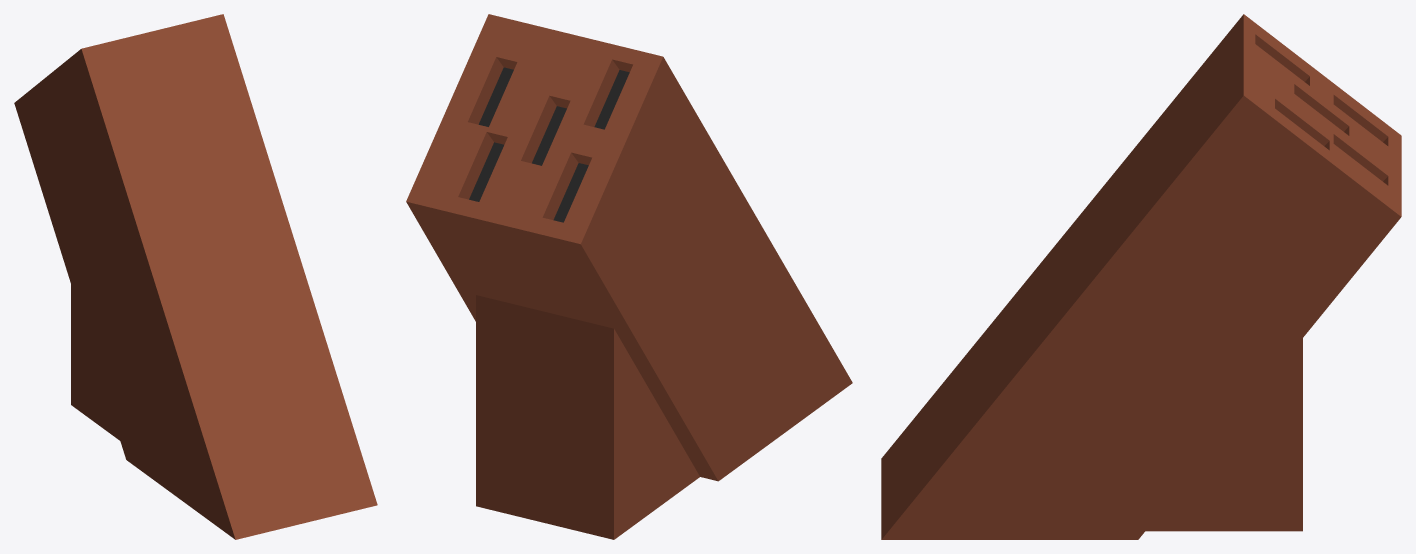
The model's file is KnifeHolder_01.fbx.
The picture shows the model from 3 angles, left to right: view 1: azimuth 30°, elevation 25°; view 2: azimuth 150°, elevation 25°; view 3: azimuth 270°, elevation 25°; orthographic projection. The views are drawn at different scales.
Parts seen in each view (by area): view 1: KnifeHolder_01; view 2: KnifeHolder_01; view 3: KnifeHolder_01.
Part boxes in pixels (left/top/right/bottom): KnifeHolder_01: left=14, top=14, right=377, bottom=539; KnifeHolder_01: left=406, top=14, right=852, bottom=539; KnifeHolder_01: left=881, top=14, right=1401, bottom=539.
Size of the model in its own units: 0.089 by 0.2263 by 0.24.
